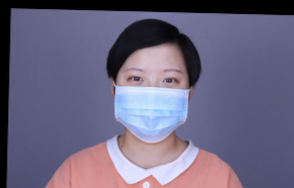with_mask: (111, 67, 191, 145)
